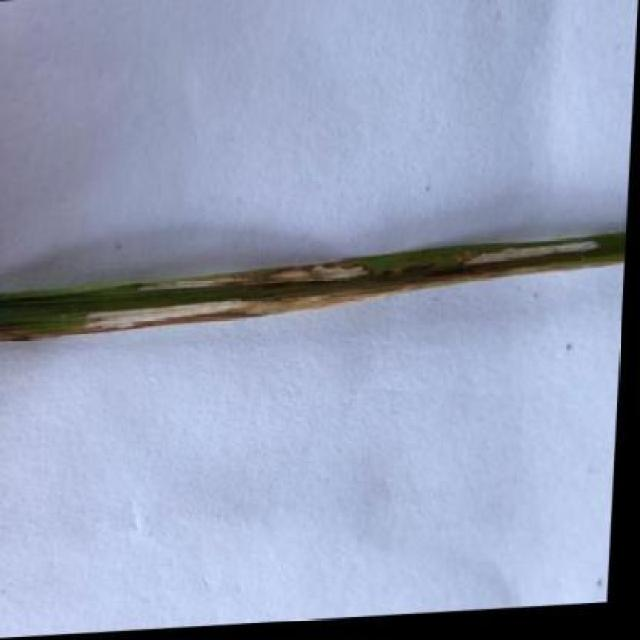Brown_Spot: (0, 231, 629, 354)
